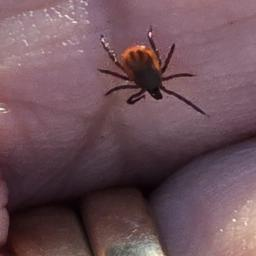Ixodes scapularis: (99, 36, 204, 118)
